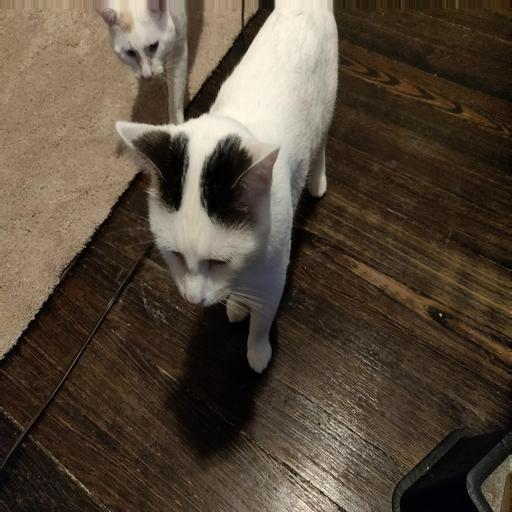cat: (29, 57, 352, 380)
